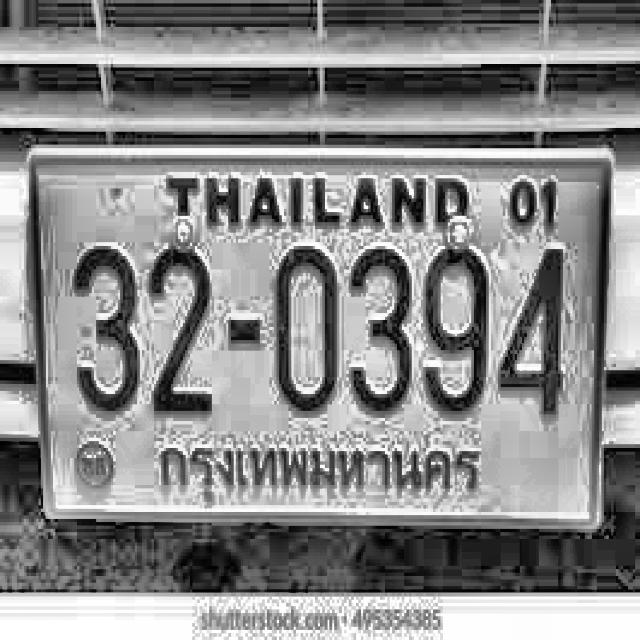license-plate: (24, 143, 617, 529)
